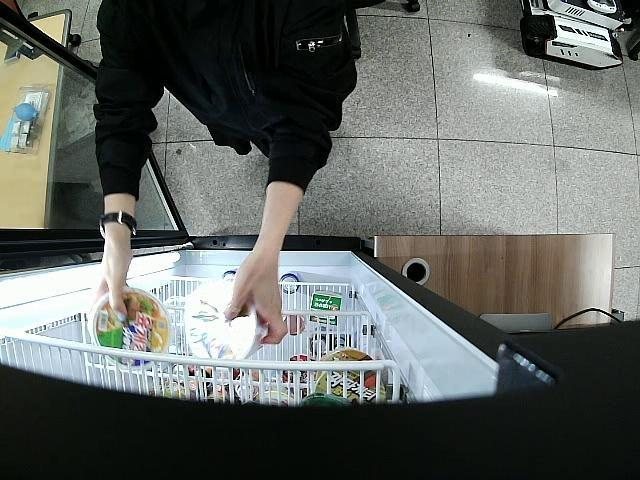09_yukGaeJang: (182, 278, 270, 362), (90, 287, 172, 372)
